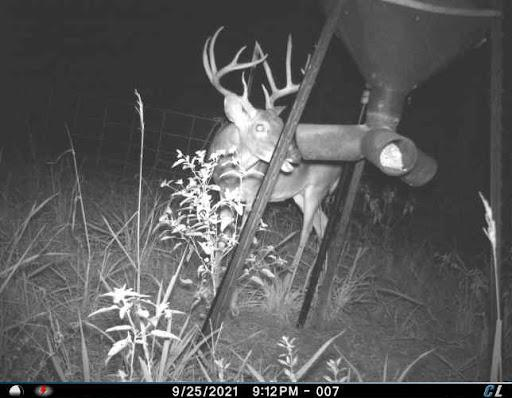Deer: (195, 17, 349, 303)
